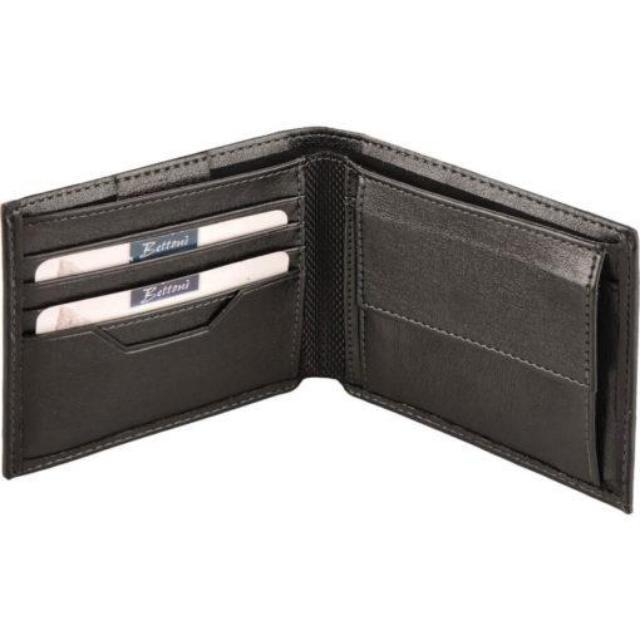wallet: (0, 120, 634, 520)
